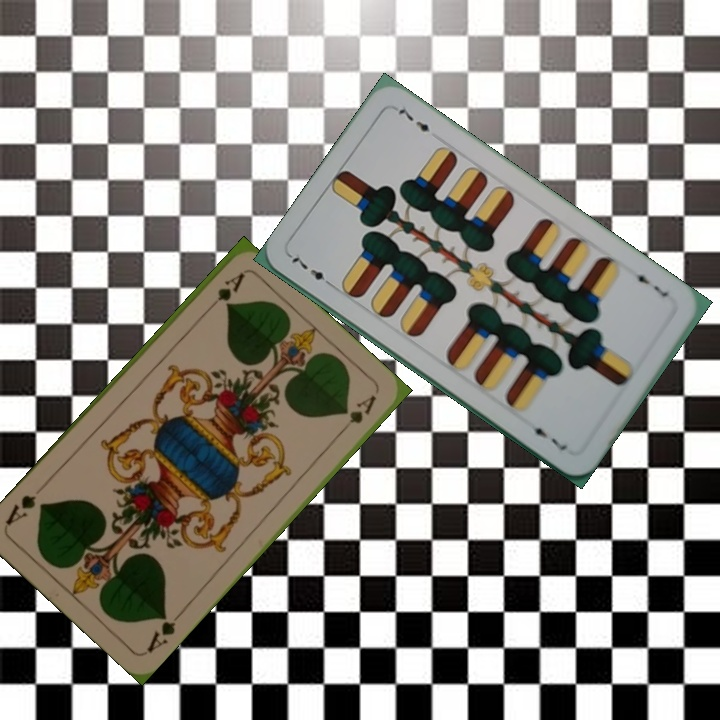E7: (286, 251, 337, 291), (627, 267, 671, 300)
GA: (201, 268, 248, 316), (142, 606, 186, 655)
